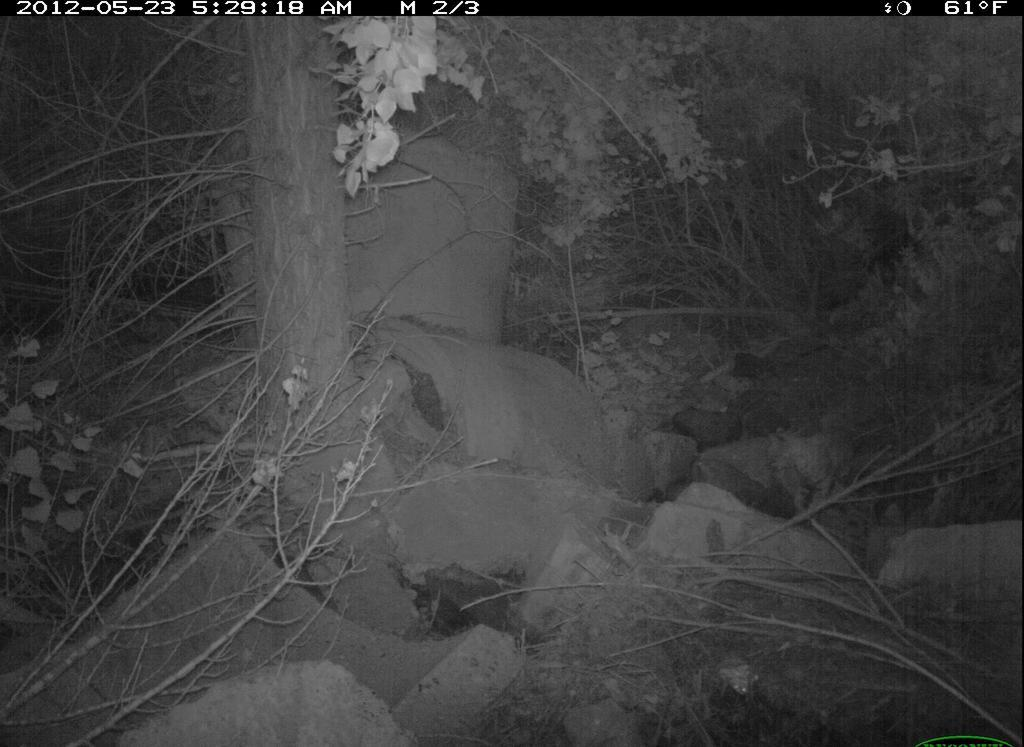bobcat: (758, 402, 874, 529)
